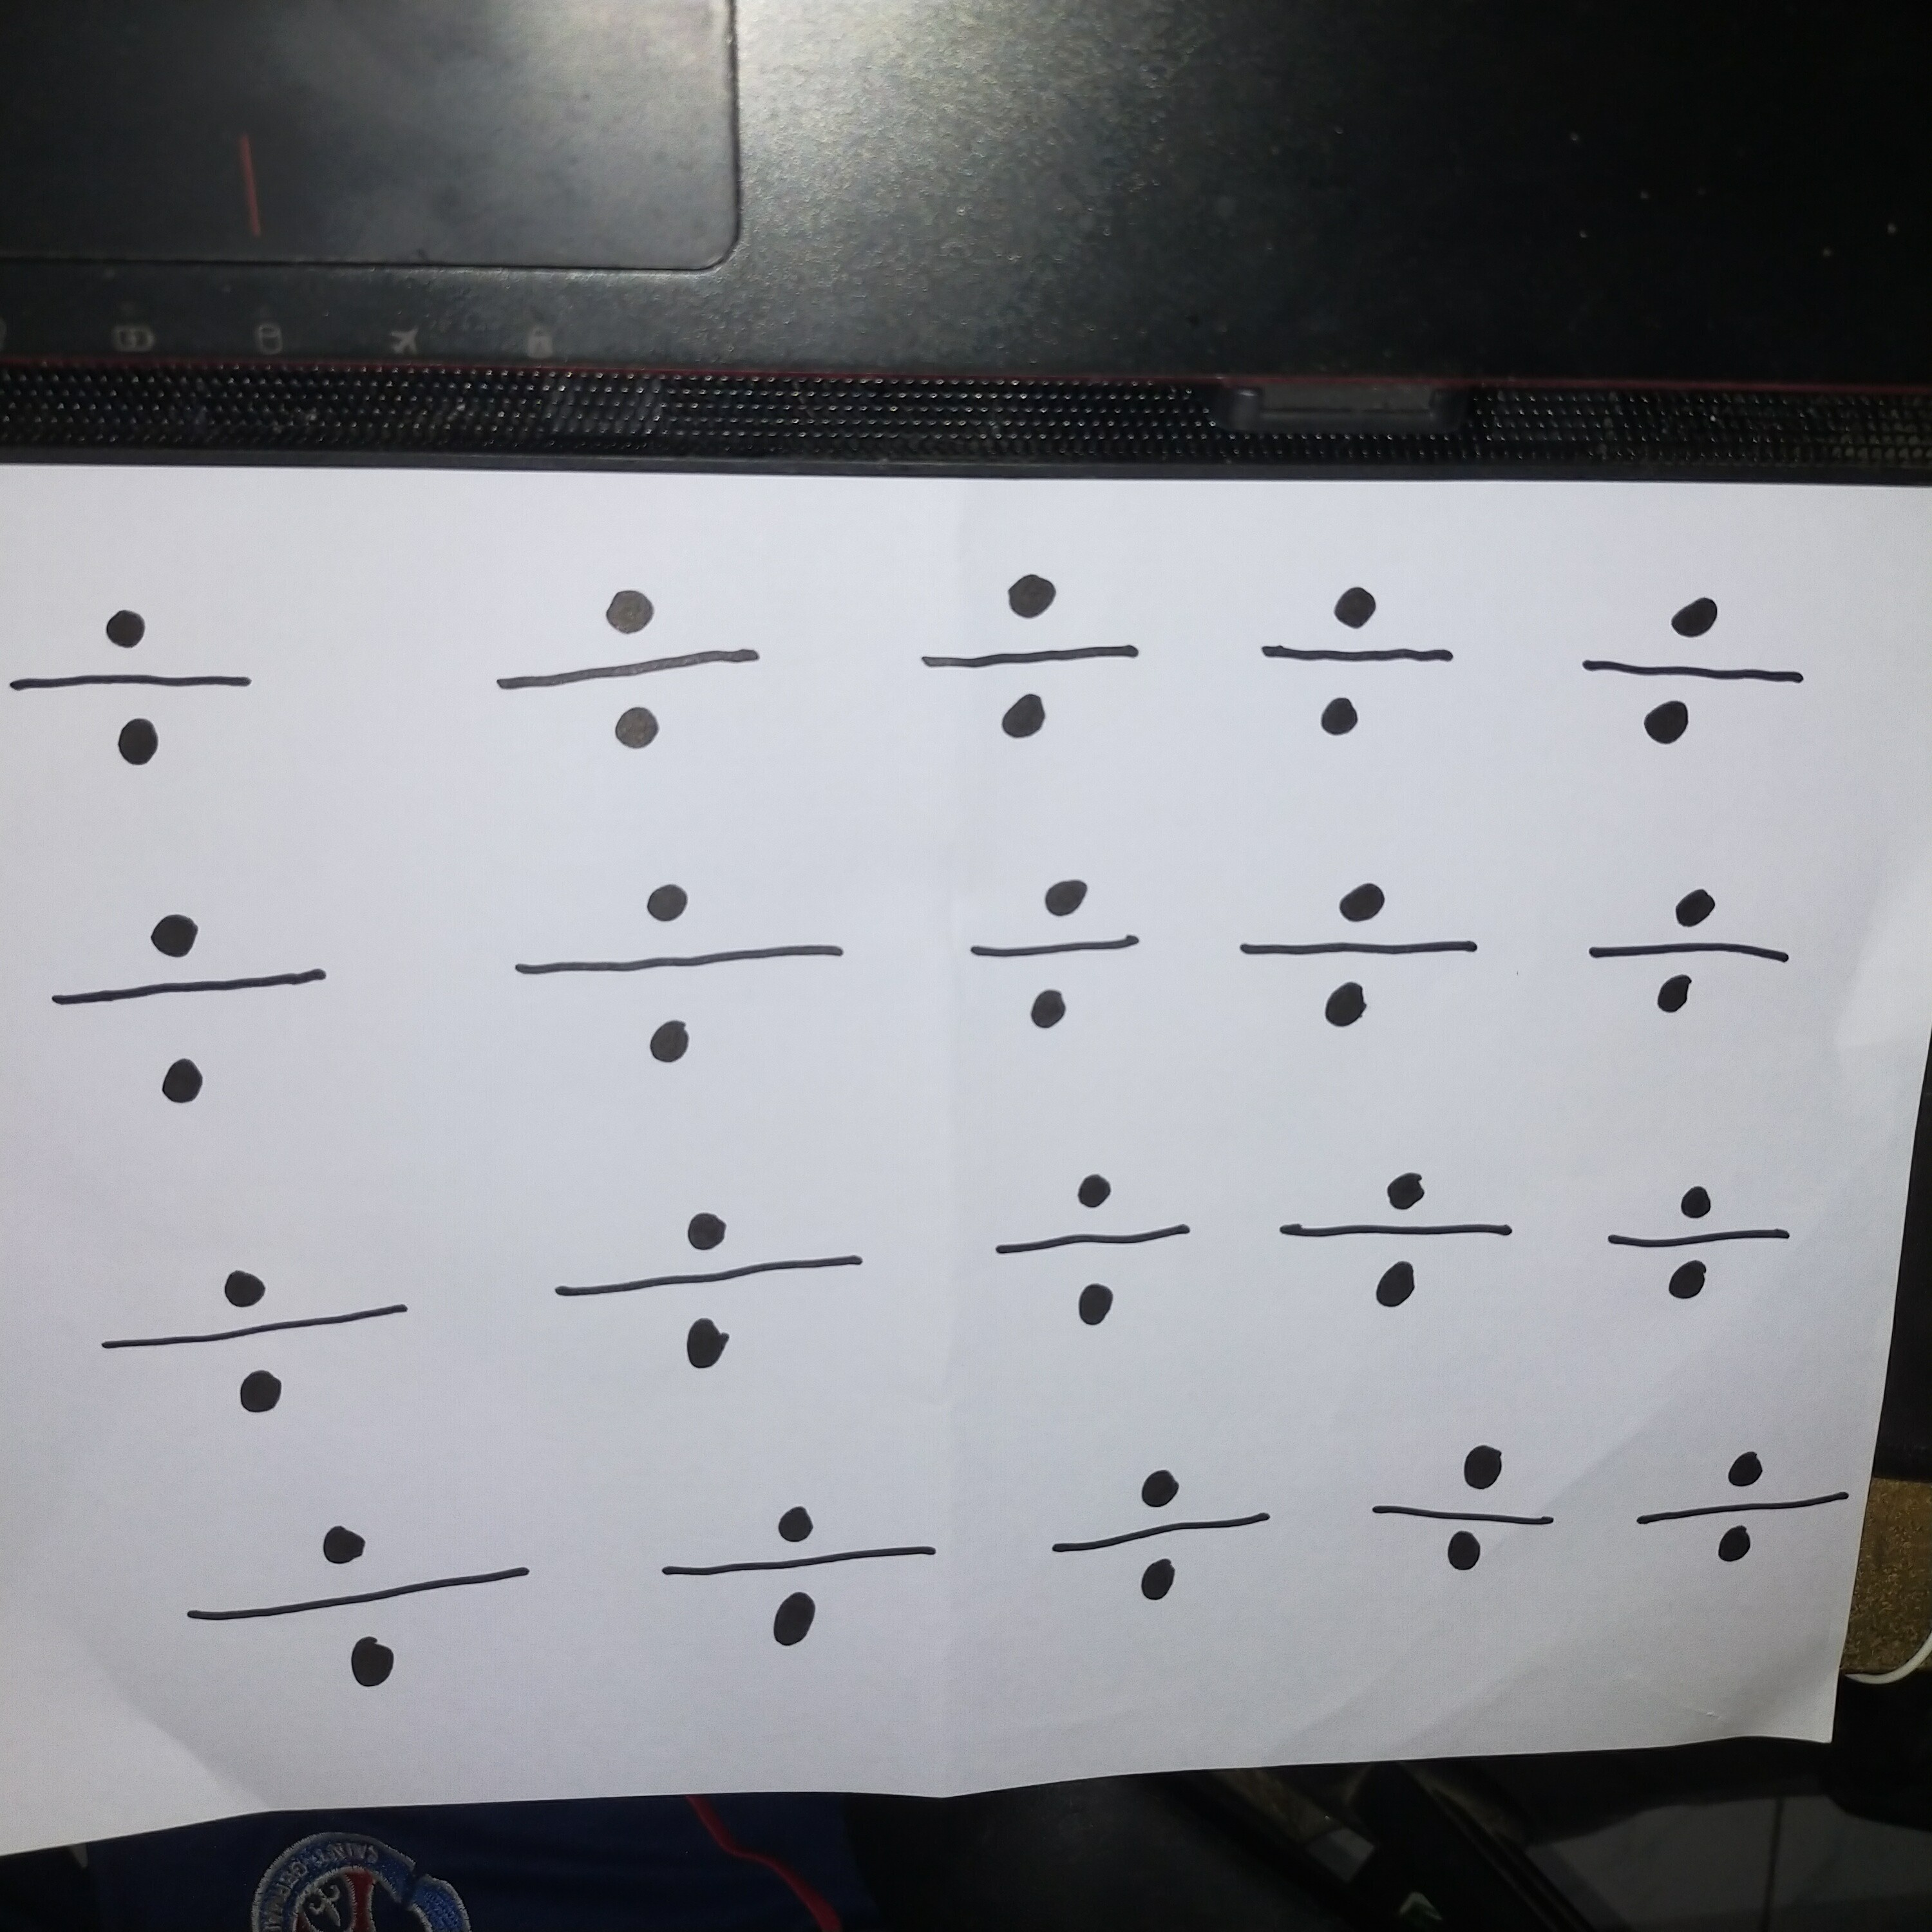div: (505, 870, 868, 1083), (171, 1514, 560, 1709), (39, 905, 361, 1108), (531, 1202, 884, 1387), (80, 1249, 423, 1426), (468, 579, 784, 764), (647, 1494, 960, 1674), (1, 579, 273, 776), (1219, 872, 1508, 1043), (1559, 583, 1826, 759), (1264, 1157, 1533, 1325), (915, 562, 1151, 751), (1042, 1459, 1283, 1621), (1260, 571, 1469, 755), (981, 1172, 1204, 1338), (1582, 880, 1804, 1030), (965, 868, 1151, 1041), (1366, 1437, 1575, 1582), (1629, 1446, 1857, 1578), (1592, 1182, 1806, 1311)
